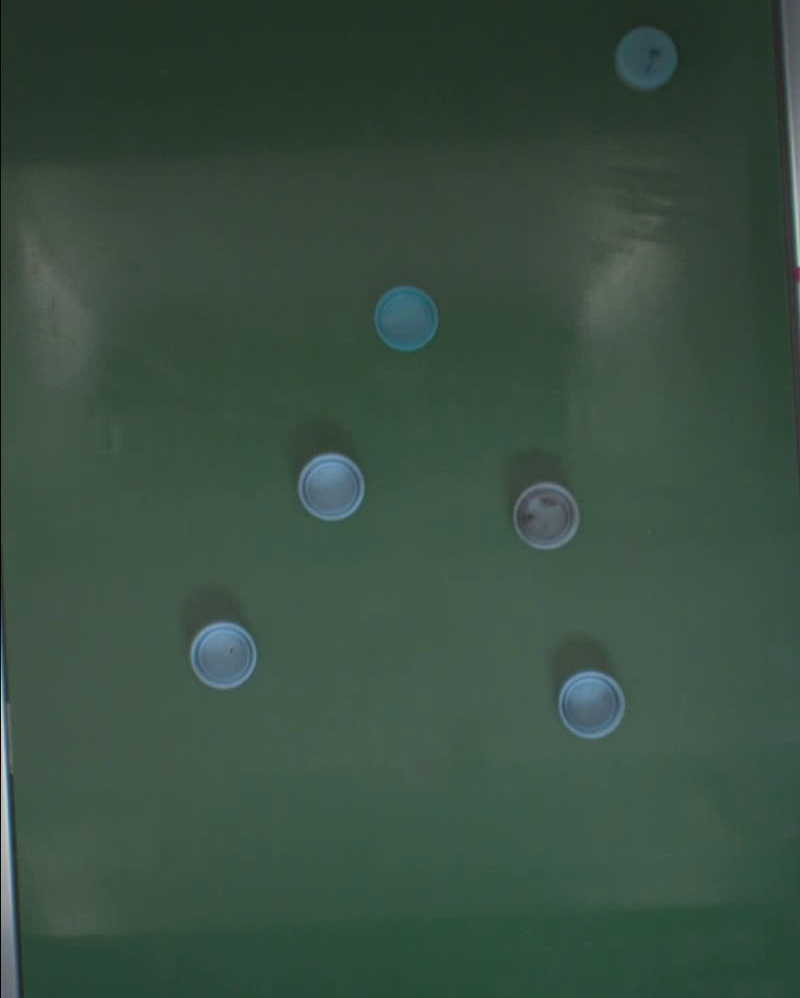Light Blue: (558, 670, 625, 739), (513, 481, 580, 549), (298, 452, 365, 520), (189, 619, 255, 688), (373, 285, 440, 350), (613, 26, 680, 90)
